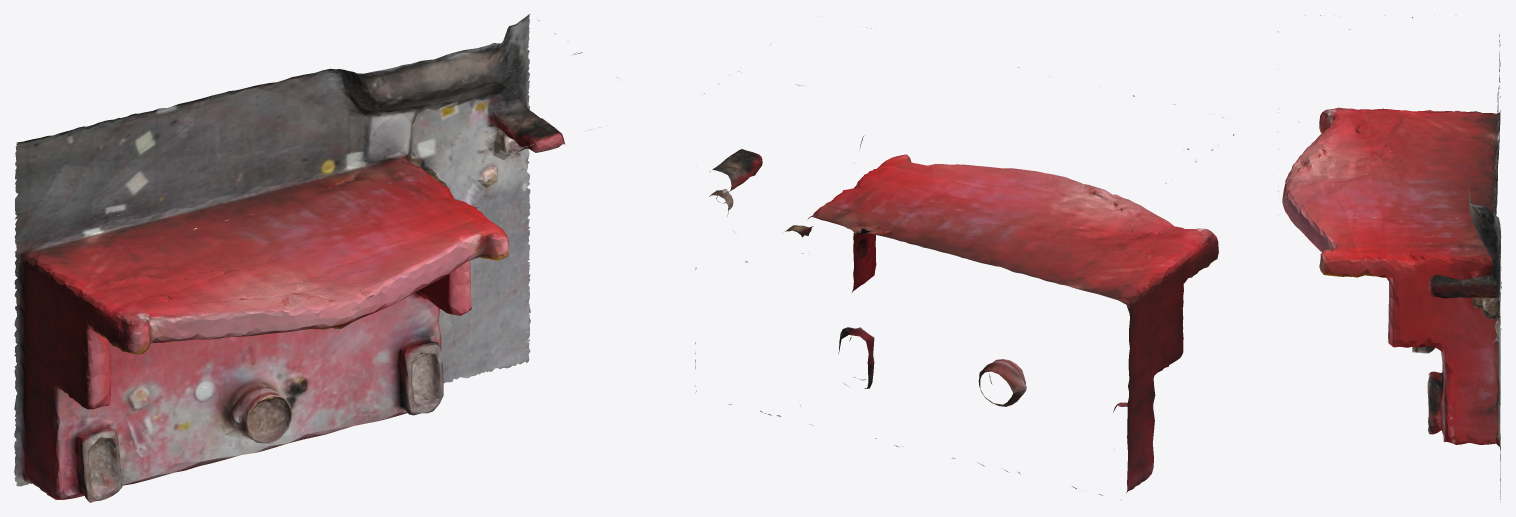
Rendered from earthtwo.glb.
3 renders of one model, left to right at view 1: azimuth 30°, elevation 25°; view 2: azimuth 150°, elevation 25°; view 3: azimuth 270°, elevation 25°, orthographic. The views are drawn at different scales.
Bounding box in the file's own units: 8.67 × 5.64 × 4.
1 material, 1 textured.
